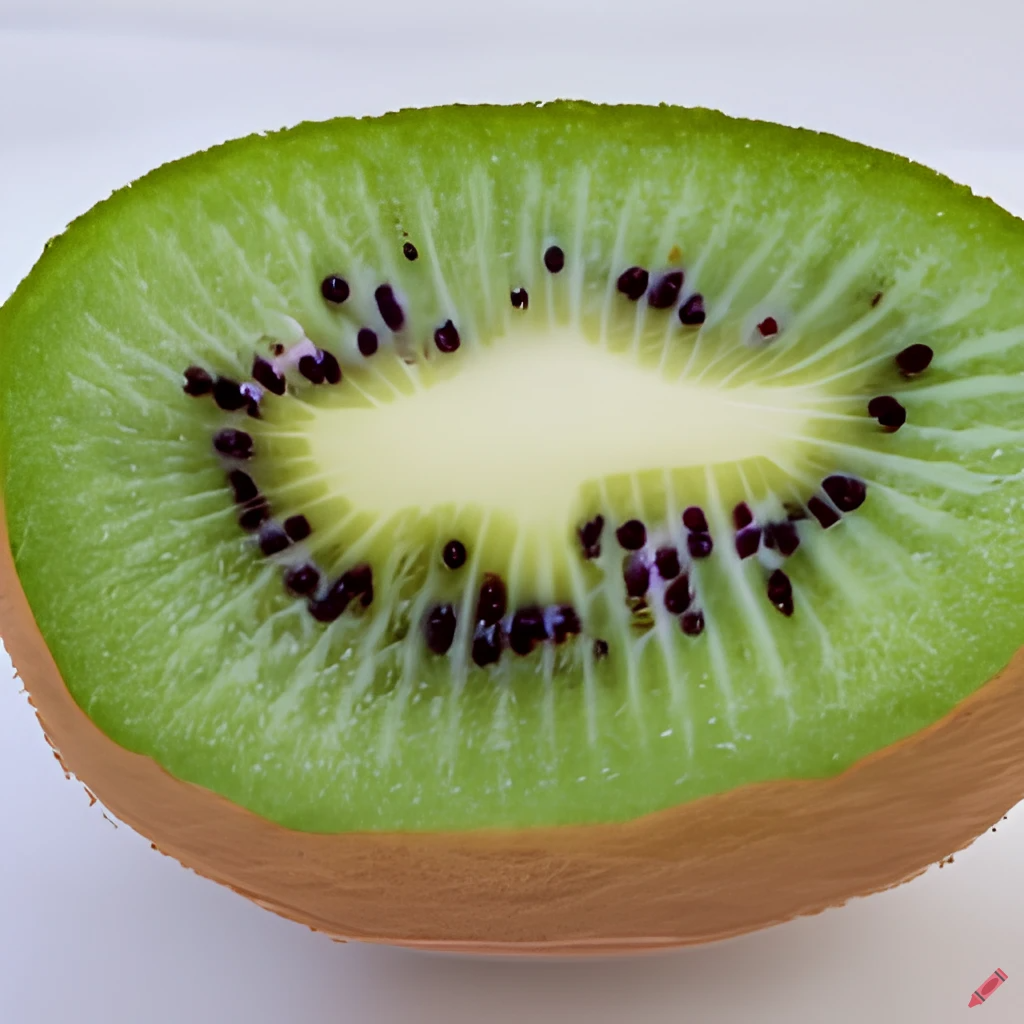Kiwi: (0, 83, 1024, 942)
